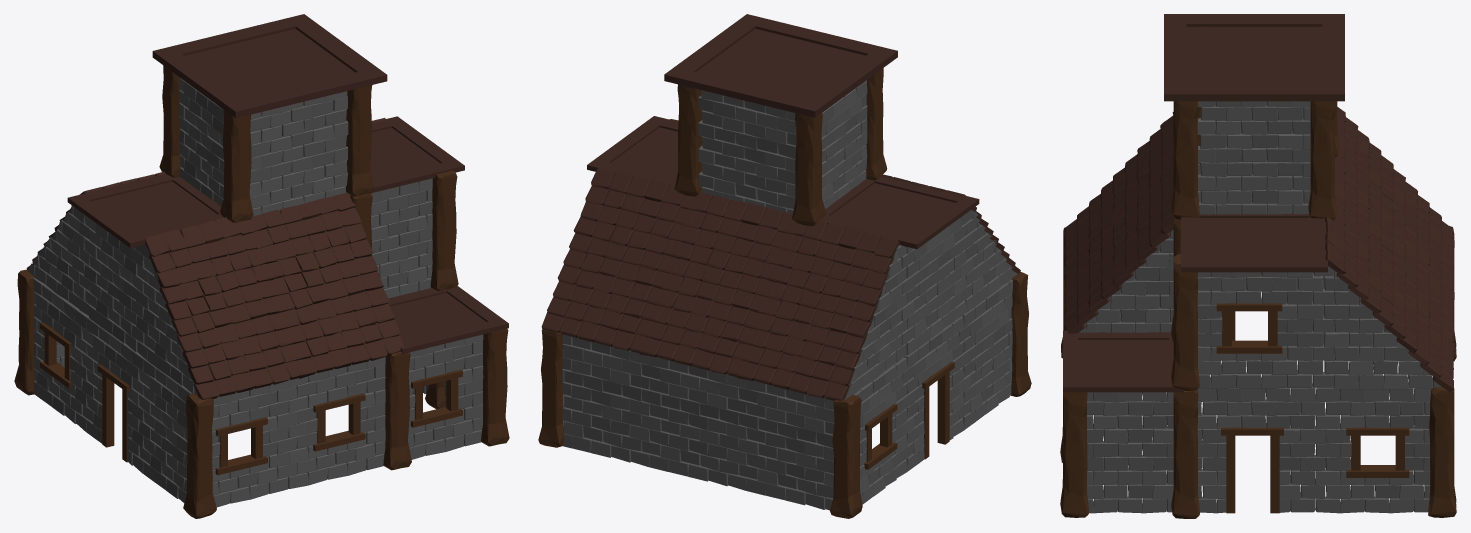
File: Stone Brick House Example.fbx
The picture shows the model from 3 angles, left to right: view 1: azimuth 30°, elevation 25°; view 2: azimuth 150°, elevation 25°; view 3: azimuth 270°, elevation 25°; orthographic projection. The views are drawn at different scales.
Parts seen in each view (by area): view 1: Cube.022, Cube.020, Cube.018, Stone Base wall.029, Stone Window Wall.004, Stone Window Wall.005, Cube.025, Stone Base wall.018, Stone Base wall.026, Stone Window Wall.002, Stone Base wall.028, Cube.015 (+16 smaller); view 2: Cube.023, Cube.014, Cube.021, Cube.018, Stone Base wall.023, Stone Base wall.024, Stone Base wall.030, Stone Base wall.017, Cube.025, Stone Base wall.026, Stone Base wall.028, Stone wall door hole.003 (+13 smaller); view 3: Cube.018, Stone Base wall.032, Stone Window Wall.007, Stone Window Wall.001, Stone Base wall.016, Stone wall door hole.002, Cube.013, Stone Base wall.012, Cube.014, Cube.020, Cube.015, Cube.023 (+16 smaller).
Boxes of the visible parts, x1=… form: Cube.022: x1=144, y1=217, x2=304, y2=399; Cube.020: x1=246, y1=192, x2=404, y2=378; Cube.018: x1=152, y1=14, x2=387, y2=117; Stone Base wall.029: x1=249, y1=91, x2=348, y2=216; Stone Window Wall.004: x1=288, y1=357, x2=385, y2=488; Stone Window Wall.005: x1=212, y1=380, x2=297, y2=507; Cube.025: x1=67, y1=174, x2=223, y2=247; Stone Base wall.018: x1=371, y1=178, x2=432, y2=298; Stone Base wall.026: x1=84, y1=215, x2=148, y2=360; Stone Window Wall.002: x1=408, y1=334, x2=483, y2=459; Stone Base wall.028: x1=138, y1=358, x2=191, y2=503; Cube.015: x1=388, y1=286, x2=508, y2=353; Cube.023: x1=736, y1=215, x2=899, y2=400; Cube.014: x1=541, y1=166, x2=701, y2=353; Cube.021: x1=639, y1=192, x2=793, y2=376; Cube.018: x1=664, y1=14, x2=897, y2=117; Stone Base wall.023: x1=641, y1=356, x2=747, y2=490; Stone Base wall.024: x1=738, y1=380, x2=834, y2=510; Stone Base wall.030: x1=698, y1=90, x2=796, y2=213; Stone Base wall.017: x1=561, y1=334, x2=650, y2=466; Cube.025: x1=821, y1=177, x2=979, y2=249; Stone Base wall.026: x1=900, y1=217, x2=966, y2=355; Stone Base wall.028: x1=959, y1=279, x2=1012, y2=429; Stone wall door hole.003: x1=902, y1=316, x2=964, y2=470; Cube.018: x1=1164, y1=14, x2=1344, y2=101; Stone Base wall.032: x1=1197, y1=101, x2=1310, y2=214; Stone Window Wall.007: x1=1197, y1=272, x2=1323, y2=388; Stone Window Wall.001: x1=1315, y1=386, x2=1431, y2=513; Stone Base wall.016: x1=1087, y1=392, x2=1201, y2=513; Stone wall door hole.002: x1=1197, y1=385, x2=1325, y2=513; Cube.013: x1=1181, y1=212, x2=1327, y2=272; Stone Base wall.012: x1=1312, y1=266, x2=1441, y2=389; Cube.014: x1=1325, y1=213, x2=1454, y2=392; Cube.020: x1=1064, y1=164, x2=1173, y2=333; Cube.015: x1=1063, y1=330, x2=1183, y2=392; Cube.023: x1=1335, y1=107, x2=1454, y2=285.
Bounding box in the file's own units: 2710 × 2776 × 2588.
